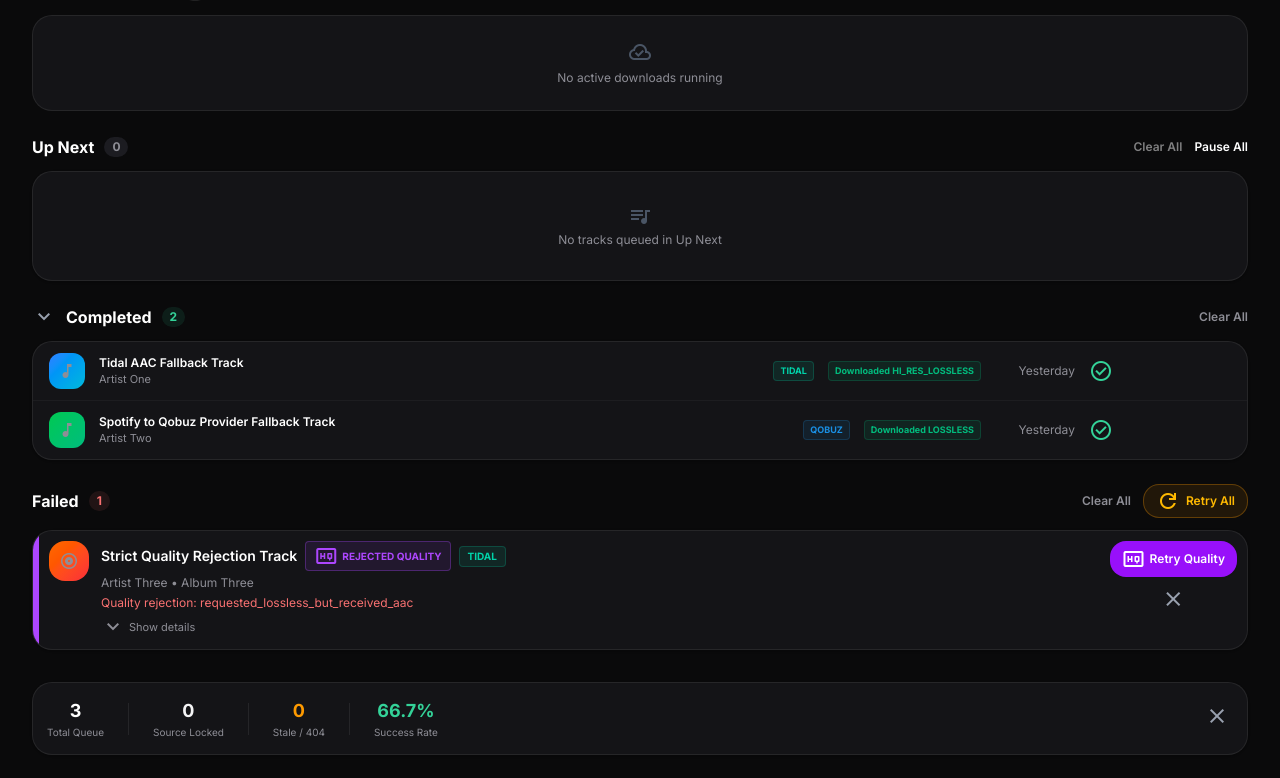
Test: DownloadsView Quality Decision & Policy Transparency › renders rejected quality failure card with "No file was saved"
(page scrolled)
# The quality decision now lives inside the collapsed details panel.
Click the button "Show details" at (148, 627), box [101,615,195,639]
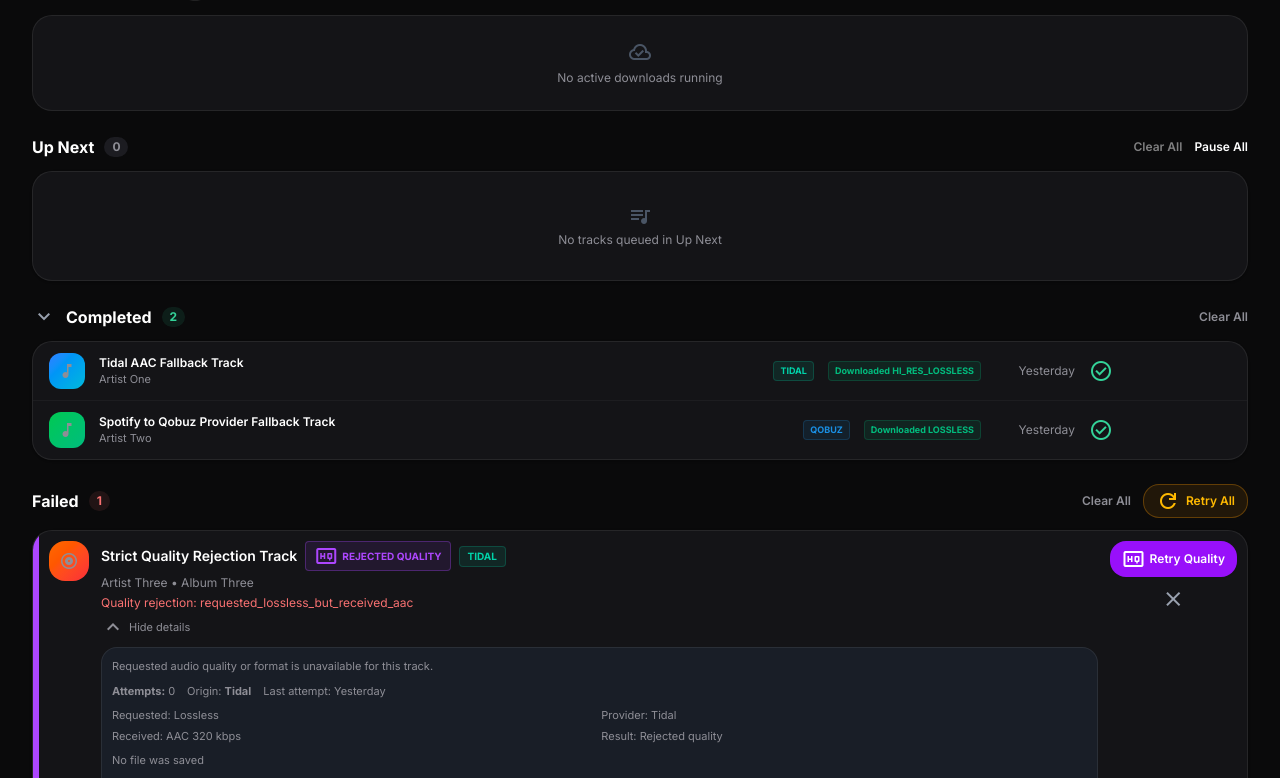
Expected: the text "Requested:" is shown, [112,708,219,722]
Expected: the text "Provider:" is shown, [601,708,676,722]
Expected: the text "No file was saved" is shown, [112,753,204,767]
